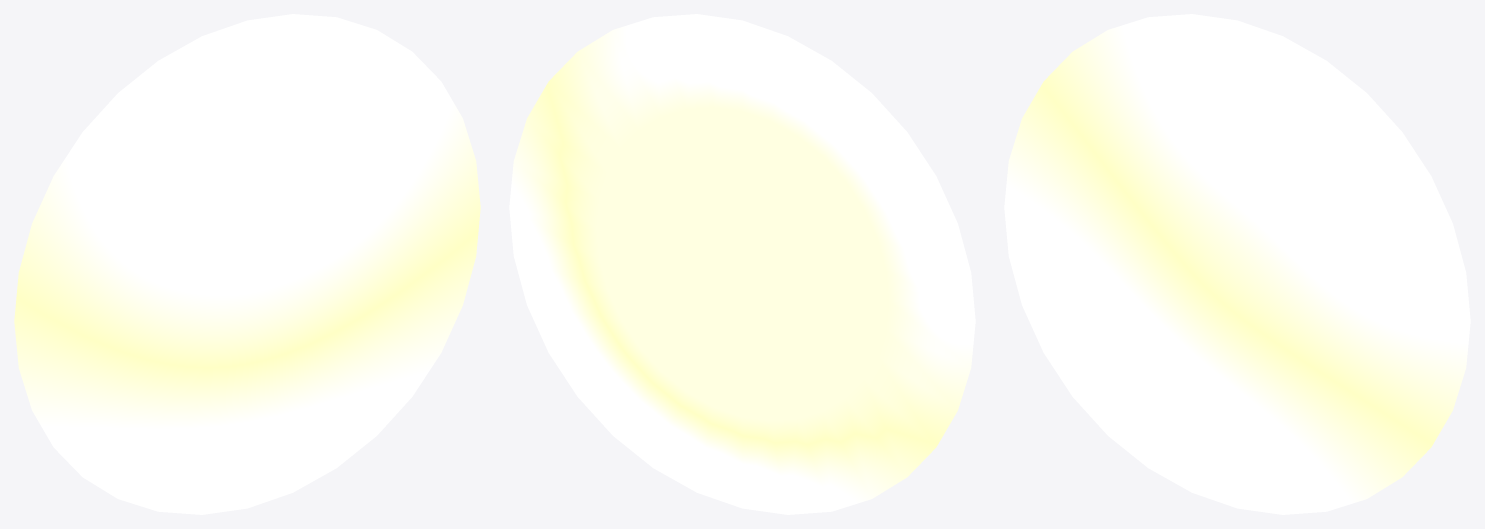
File: moon.glb
The picture shows the model from 3 angles, left to right: view 1: azimuth 30°, elevation 25°; view 2: azimuth 150°, elevation 25°; view 3: azimuth 330°, elevation 25°; orthographic projection.
Visible parts, largest first — view 1: halo; view 2: halo; view 3: halo.
Boxes of the visible parts, x1,y1,x2,y2 form: halo: (14,14,480,514); halo: (509,14,975,514); halo: (1004,14,1470,514).
Bounding box in the file's own units: 3.2 × 3.2 × 0.031.
